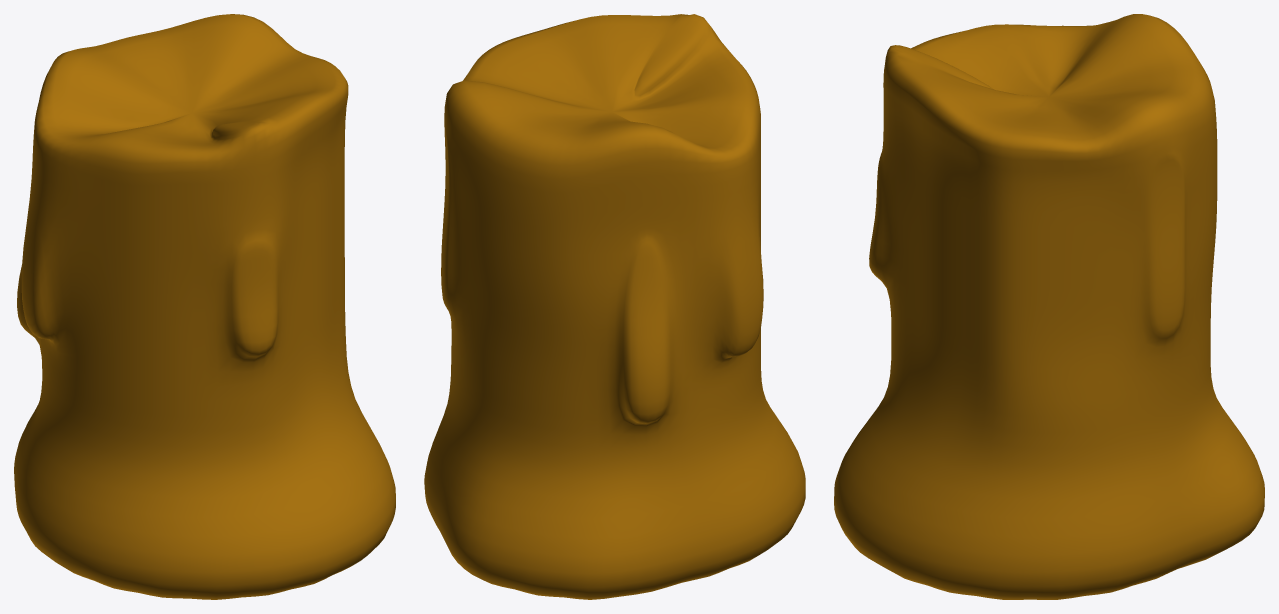
The model's file is Candle Short.fbx.
3 views of the same model, side by side, from view 1: azimuth 30°, elevation 25°; view 2: azimuth 150°, elevation 25°; view 3: azimuth 270°, elevation 25° (orthographic). The views are drawn at different scales.
Parts seen in each view (by area): view 1: pCylinder11; view 2: pCylinder11; view 3: pCylinder11.
Part boxes in pixels (x1,y1,x2,y2): pCylinder11: (14,14,395,599); pCylinder11: (424,14,805,599); pCylinder11: (834,14,1264,599).
Size of the model in its own units: 22.89 by 30.78 by 25.
Materials: 1 (1 with a texture image).
